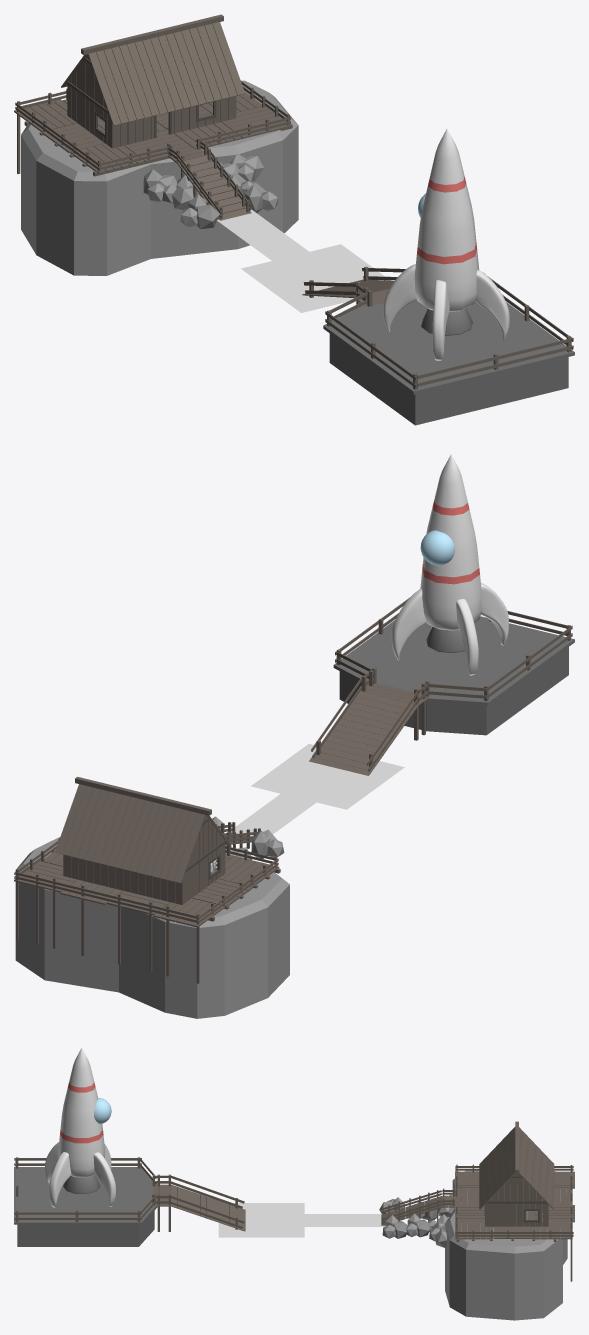
File: TestLobby.glb
3 renders of one model, top to bottom at view 1: azimuth 30°, elevation 25°; view 2: azimuth 150°, elevation 25°; view 3: azimuth 270°, elevation 25°, orthographic. The views are drawn at different scales.
Visible parts, largest first — view 1: Sessel.001, Plattform, Rakete, Boden; view 2: Sessel.001, Plattform, Rakete, Boden; view 3: Sessel.001, Plattform, Rakete, Boden.
Boxes of the visible parts, left/top/right/bottom form: Sessel.001: left=14, top=14, right=298, bottom=275; Plattform: left=302, top=266, right=574, bottom=425; Rakete: left=383, top=129, right=509, bottom=360; Boden: left=217, top=209, right=390, bottom=312; Sessel.001: left=14, top=776, right=289, bottom=1018; Plattform: left=309, top=589, right=574, bottom=775; Rakete: left=391, top=454, right=508, bottom=675; Boden: left=231, top=744, right=404, bottom=836; Sessel.001: left=379, top=1121, right=574, bottom=1320; Plattform: left=14, top=1157, right=245, bottom=1246; Rakete: left=45, top=1048, right=115, bottom=1207; Boden: left=218, top=1203, right=385, bottom=1237.
Size of the model in its own units: 65.99 by 82.77 by 186.
